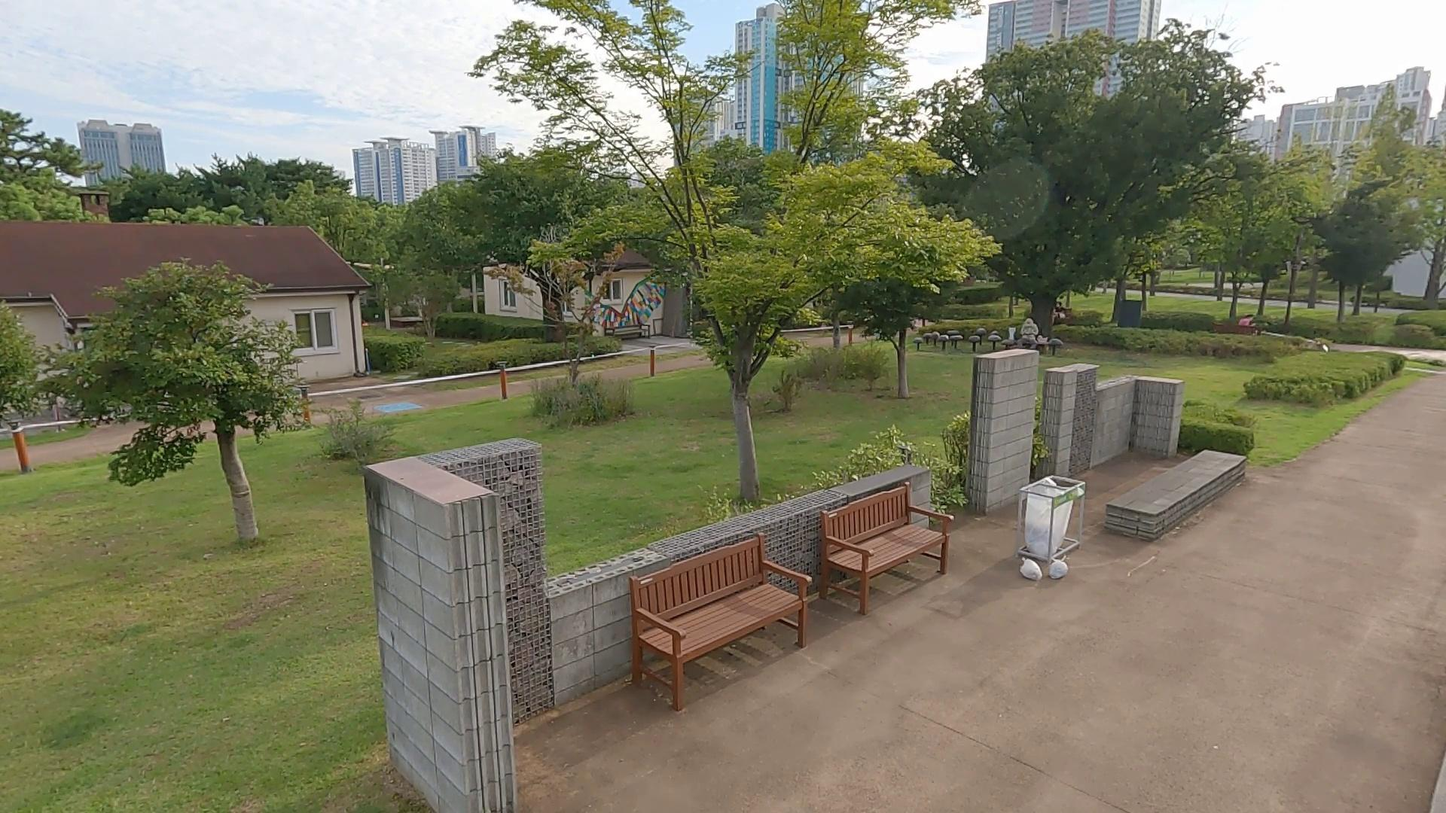trash: (1010, 551, 1045, 589), (1044, 553, 1073, 587)
